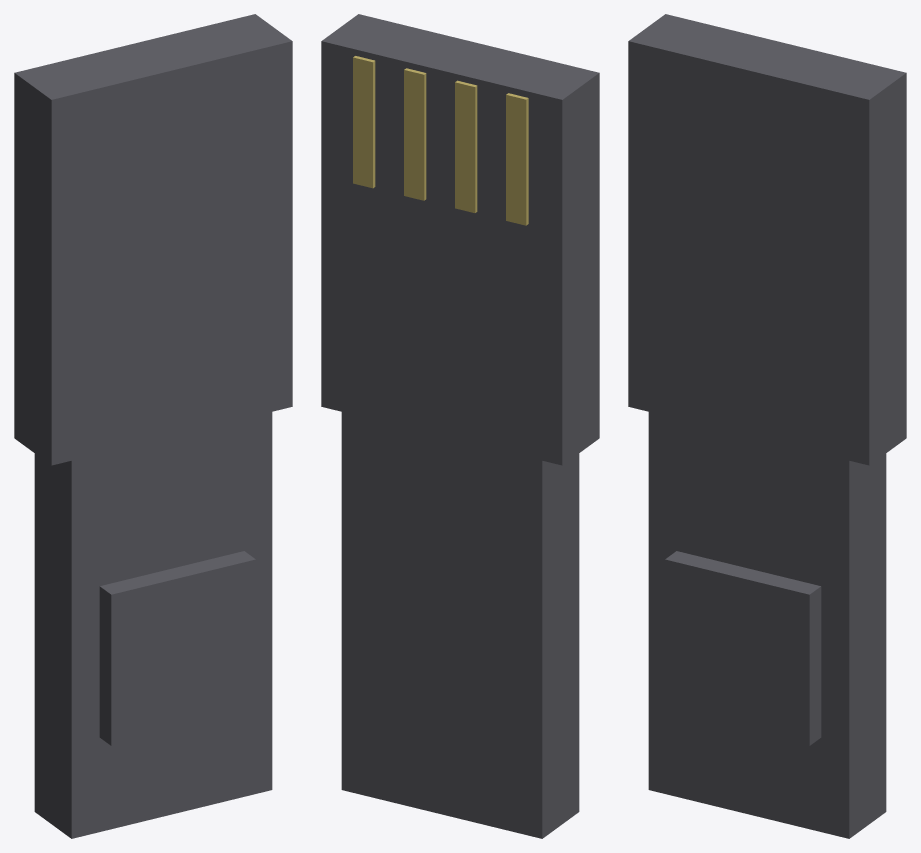
The model's file is aht25.glb.
3 renders of one model, left to right at view 1: azimuth 30°, elevation 25°; view 2: azimuth 150°, elevation 25°; view 3: azimuth 330°, elevation 25°, orthographic.
Parts seen in each view (by area): view 1: extra; view 2: extra, pins; view 3: extra.
Part boxes in pixels (x1,y1,x2,y2): extra: (14, 14, 292, 838); extra: (321, 14, 599, 838); pins: (353, 56, 528, 225); extra: (628, 14, 906, 838).
Bounding box in the file's own units: 6 × 17.7 × 2.2.
